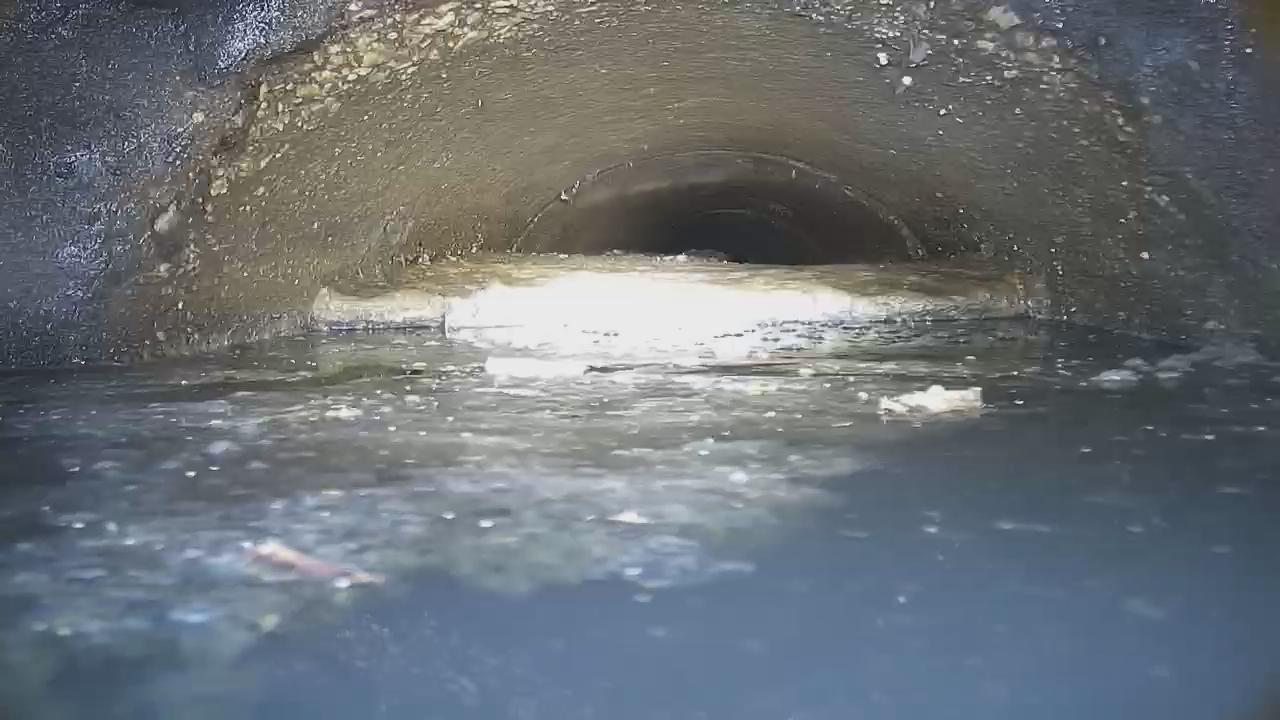FZ: (1, 318, 1255, 719)
JG: (316, 253, 1015, 354)
